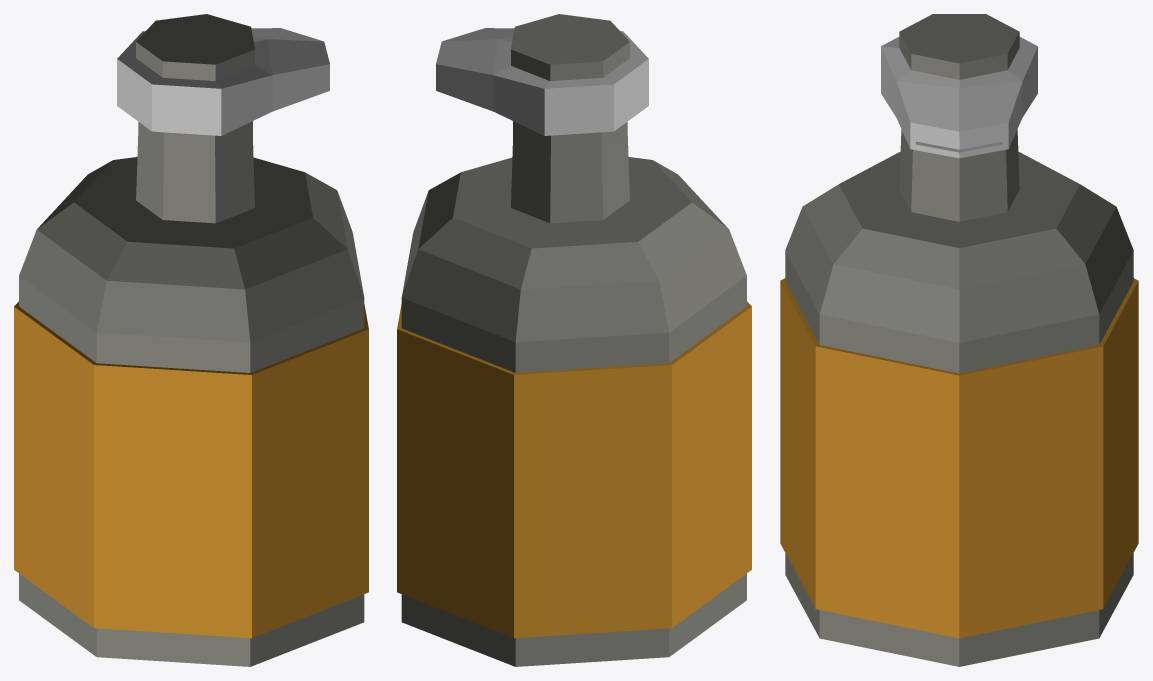
Rendered from Spray Bottle.fbx.
The picture shows the model from 3 angles, left to right: view 1: azimuth 30°, elevation 25°; view 2: azimuth 150°, elevation 25°; view 3: azimuth 270°, elevation 25°; orthographic projection.
Parts seen in each view (by area): view 1: Node 0; view 2: Node 0; view 3: Node 0.
Part boxes in pixels (left/top/right/bottom): Node 0: left=14, top=14, right=368, bottom=666; Node 0: left=397, top=14, right=751, bottom=666; Node 0: left=780, top=14, right=1138, bottom=666.
Size of the model in its own units: 0.1493 by 0.2547 by 0.1456.
